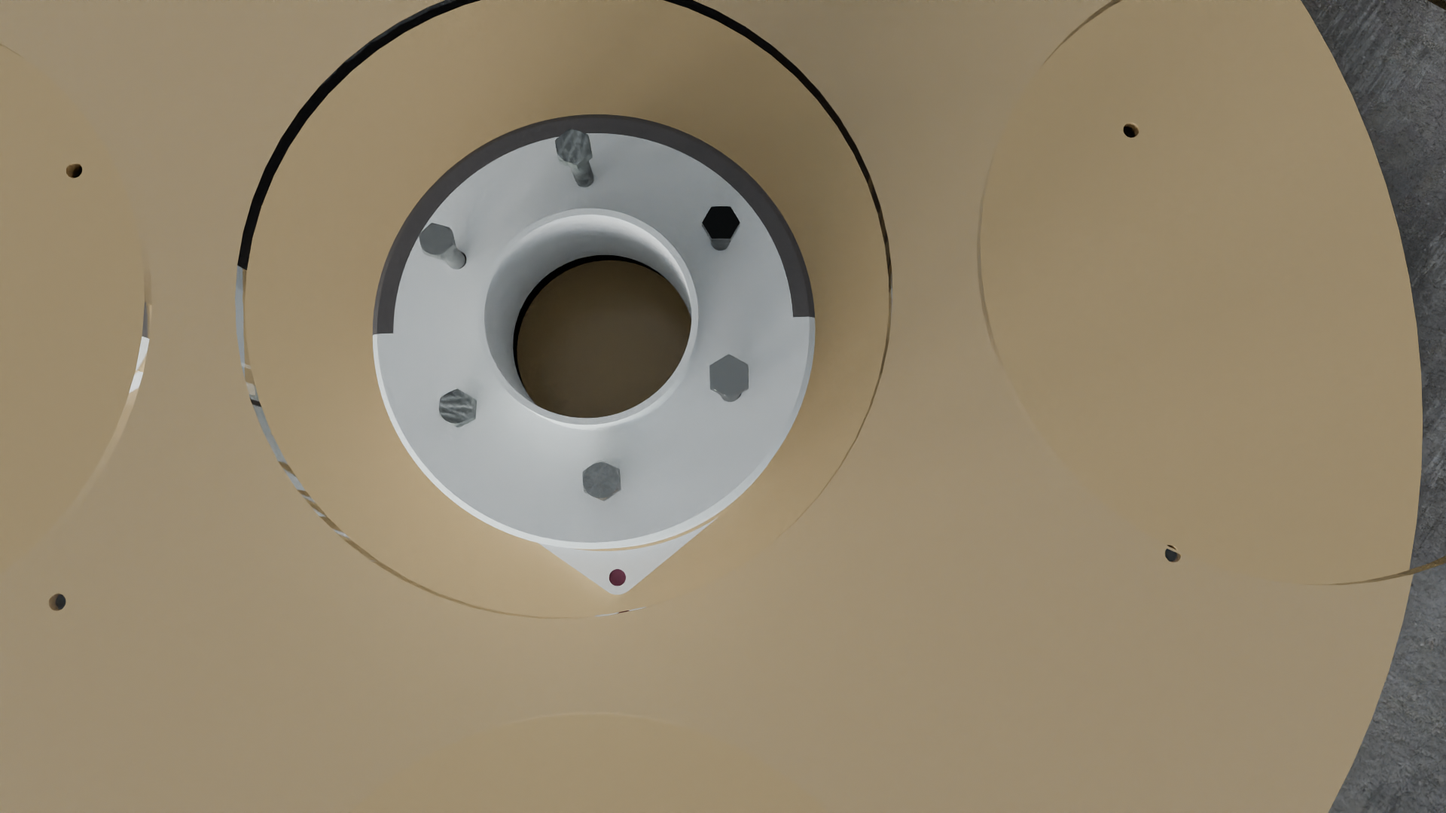bolt: (709, 354, 749, 398), (582, 460, 620, 501), (555, 128, 591, 166), (439, 388, 474, 427), (702, 206, 740, 239), (419, 223, 453, 257)
